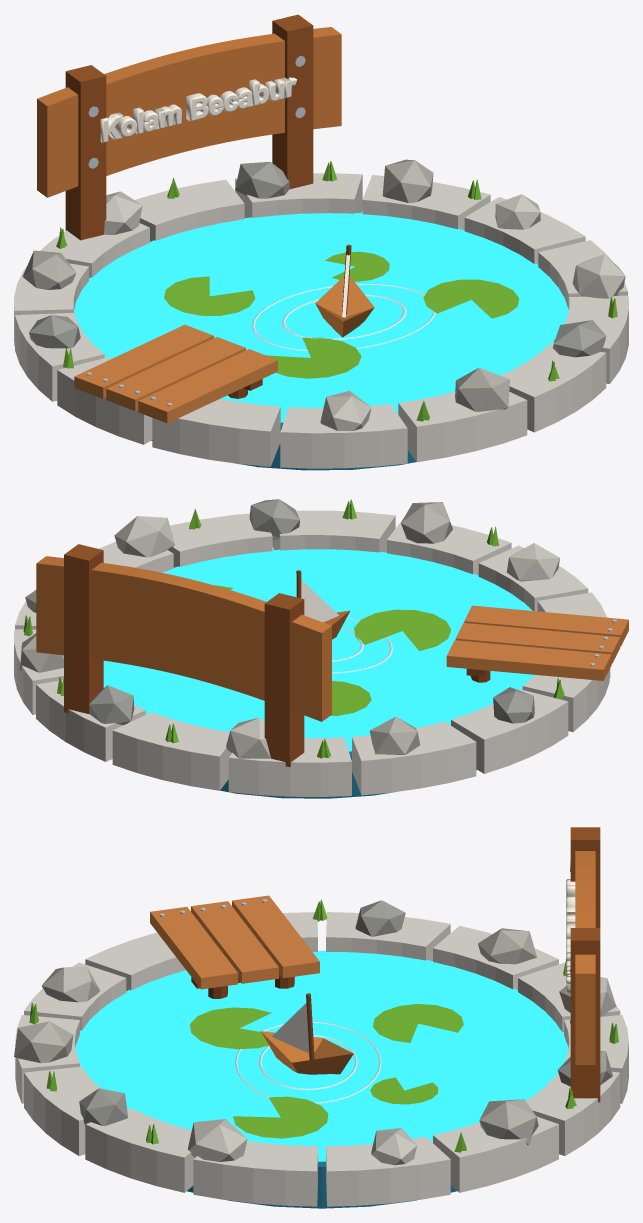
The model's file is kolam_becabur.glb.
3 views of the same model, one above another, from view 1: azimuth 30°, elevation 25°; view 2: azimuth 150°, elevation 25°; view 3: azimuth 270°, elevation 25° (orthographic). The views are drawn at different scales.
Parts seen in each view (by area): view 1: Pond_Water, Sign_Board_Plank, Curb_Block_08, Curb_Block_09, Curb_Block_10, Sign_Post_-0.52, Curb_Block_11, Sign_Post_0.52, Dock_Plank_0, Curb_Block_03, Sign_Text_KolamBecabur, Curb_Block_02 (+26 smaller); view 2: Pond_Water, Sign_Board_Plank, Curb_Block_03, Curb_Block_05, Curb_Block_04, Sign_Post_-0.52, Sign_Post_0.52, Curb_Block_06, Dock_Plank_2, Curb_Block_11, Curb_Block_12, Curb_Block_02 (+21 smaller); view 3: Pond_Water, Curb_Block_13, Curb_Block_00, Curb_Block_12, Curb_Block_01, Curb_Block_11, Curb_Block_02, Sign_Board_Plank, Curb_Block_06, Dock_Plank_0, Dock_Plank_1, Dock_Plank_2 (+28 smaller).
Part boxes in pixels (x1,y1,x2,y2): Pond_Water: (74,213,568,422); Sign_Board_Plank: (37,27,341,197); Curb_Block_08: (152,399,280,466); Curb_Block_09: (280,404,407,468); Curb_Block_10: (398,391,527,462); Sign_Post_-0.52: (65,65,106,240); Curb_Block_11: (501,343,606,432); Sign_Post_0.52: (272,14,313,189); Dock_Plank_0: (138,349,277,423); Curb_Block_03: (135,179,244,241); Sign_Text_KolamBecabur: (100,77,297,142); Curb_Block_02: (235,173,362,217); Pond_Water: (103,549,534,751); Sign_Board_Plank: (36,556,331,721); Curb_Block_03: (112,712,231,790); Curb_Block_05: (352,721,476,795); Curb_Block_04: (228,737,351,796); Sign_Post_-0.52: (264,593,304,767); Sign_Post_0.52: (64,544,103,713); Curb_Block_06: (451,689,568,773); Dock_Plank_2: (446,640,611,680); Curb_Block_11: (272,510,395,552); Curb_Block_12: (169,513,272,567); Curb_Block_02: (36,680,145,761); Pond_Water: (75,950,568,1161); Curb_Block_13: (193,1141,317,1206); Curb_Block_00: (326,1136,450,1206); Curb_Block_12: (85,1108,194,1192); Curb_Block_01: (433,1116,558,1192); Curb_Block_11: (24,1066,100,1155); Curb_Block_02: (526,1071,620,1155); Sign_Board_Plank: (575,851,595,1064); Curb_Block_06: (326,912,450,960); Dock_Plank_0: (150,906,237,989); Dock_Plank_1: (191,901,278,983); Dock_Plank_2: (232,895,319,978).
Size of the model in its own units: 2.72 by 1.07 by 2.69.
